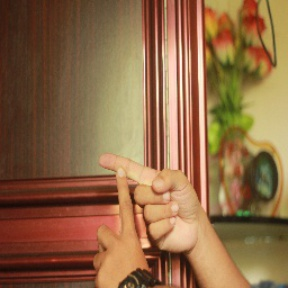T: (85, 144, 164, 257)
